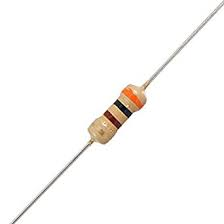resistor: (76, 72, 159, 167)
